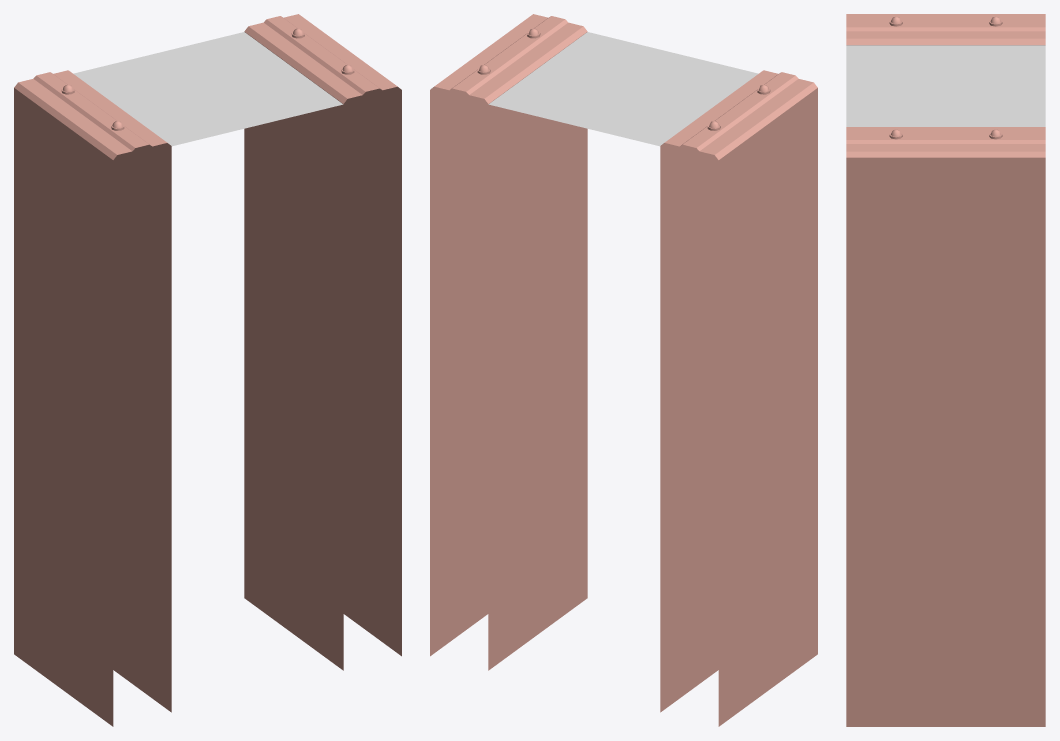
The model's file is conveyor_belt.fbx.
3 views of the same model, side by side, from view 1: azimuth 30°, elevation 25°; view 2: azimuth 150°, elevation 25°; view 3: azimuth 270°, elevation 25° (orthographic).
Parts seen in each view (by area): view 1: conveyor_belt; view 2: conveyor_belt; view 3: conveyor_belt.
Boxes of the visible parts, x1,y1,x2,y2 form: conveyor_belt: [14, 14, 401, 726]; conveyor_belt: [430, 14, 817, 726]; conveyor_belt: [846, 14, 1045, 726].
Size of the model in its own units: 3.36 by 6.46 by 2.
